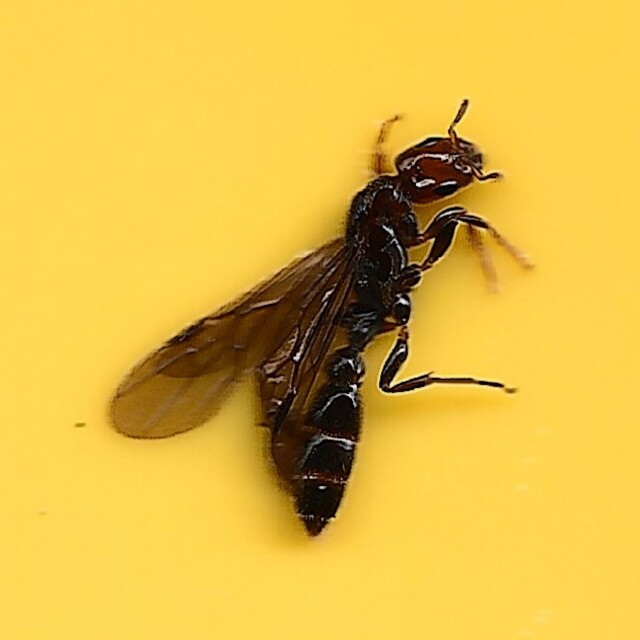Hymenoptera: (101, 101, 539, 539)
